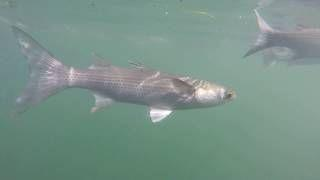Mullet: (12, 22, 240, 126)
